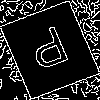P: (25, 25, 75, 79)
